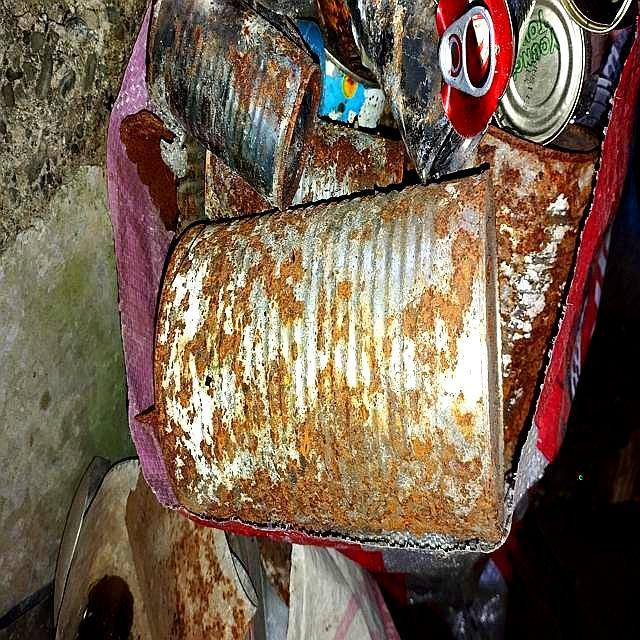Non-biodegradable: (143, 1, 637, 548)
